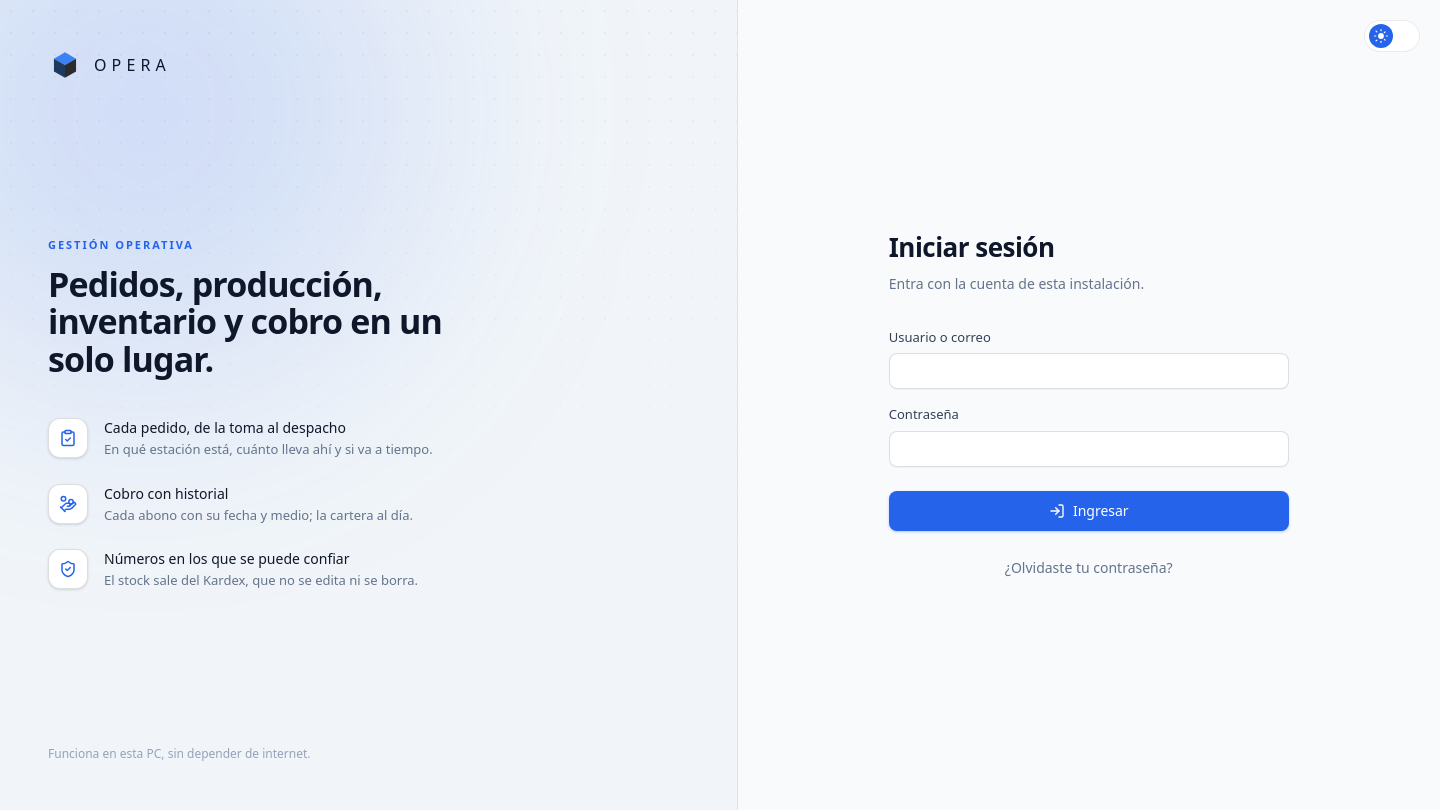
LoginPage › shows a generic message on a non-401 failure
The width and height of the screenshot is (1440, 810).
Type "admin@opera.local" into the field labelled "Usuario o correo". click: (1089, 371)
box: [889, 353, 1289, 389]
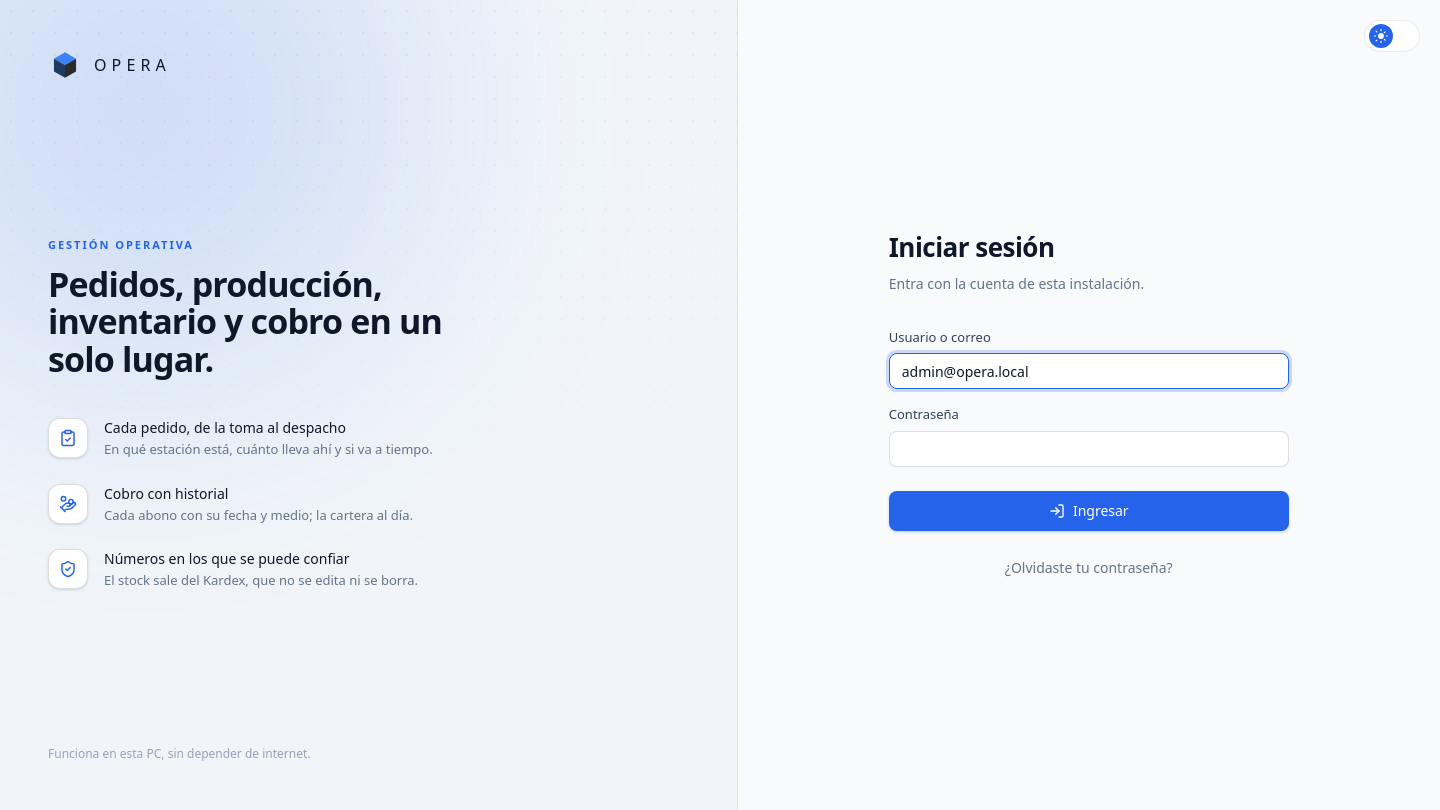
Type "password123" into the password field labelled "Contraseña". click: (1089, 449)
box: [889, 431, 1289, 467]
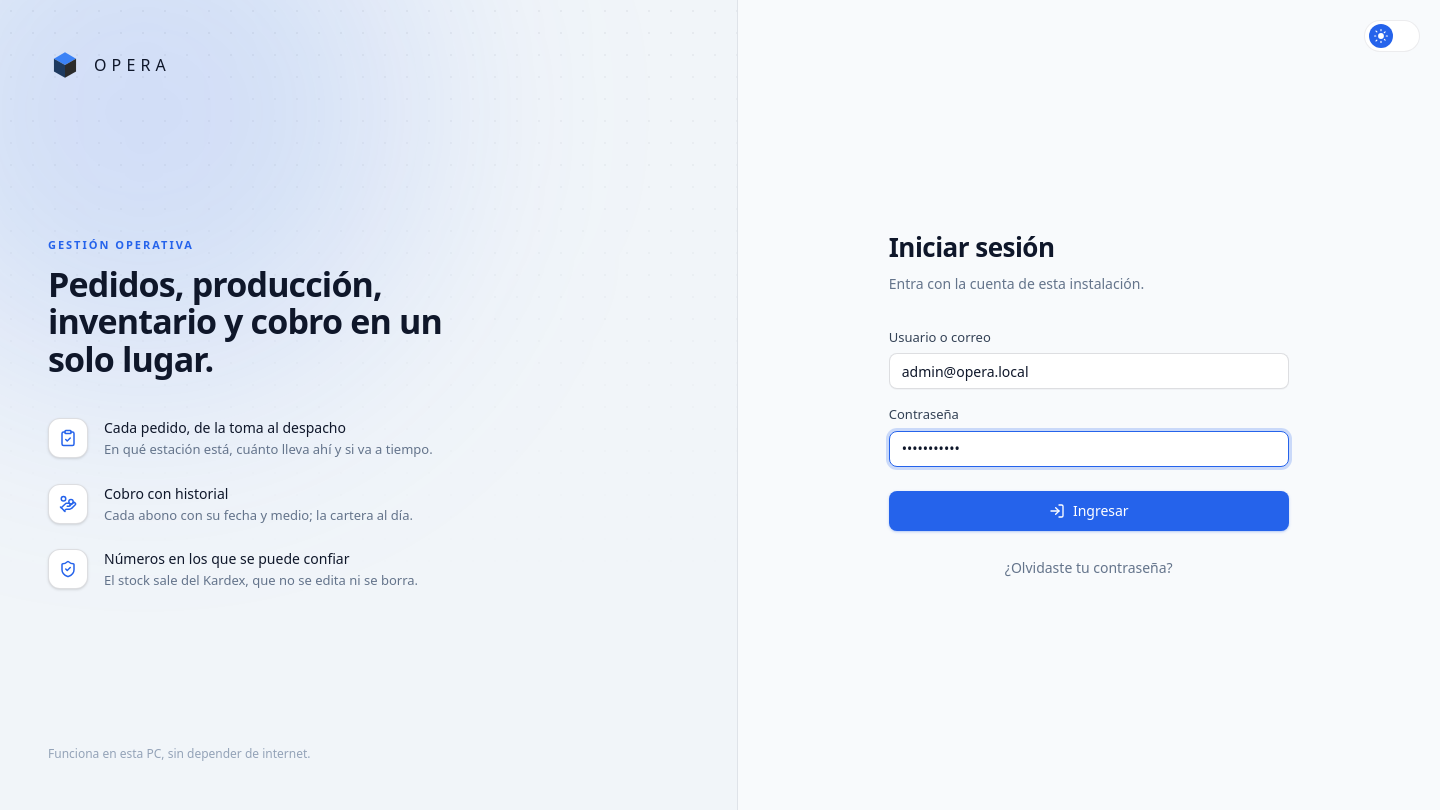
Click the button "Ingresar". click: (1089, 511)
box: [889, 491, 1289, 531]
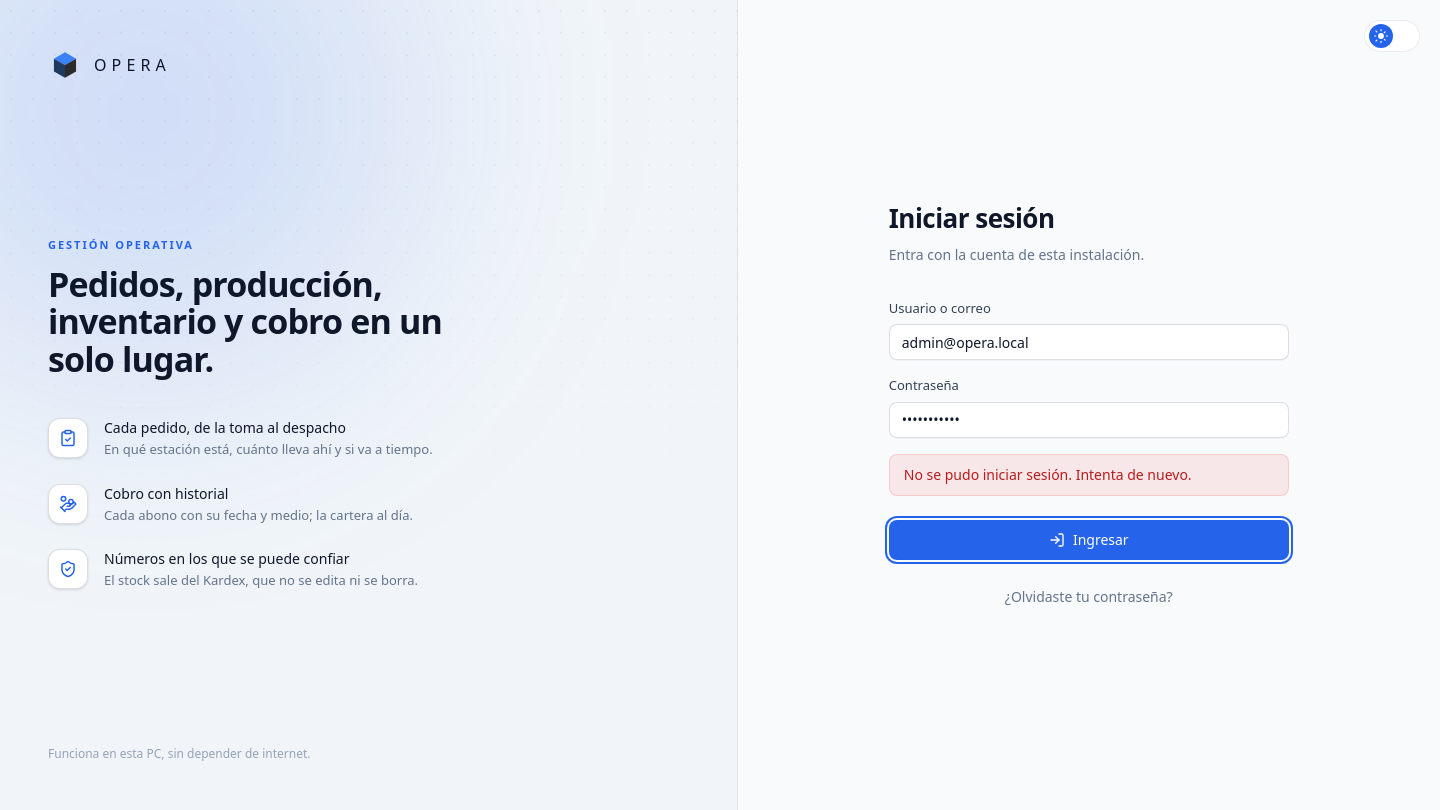
Now the text "No se pudo iniciar sesión. Intenta de nuevo." is shown, box [889, 454, 1289, 496]
